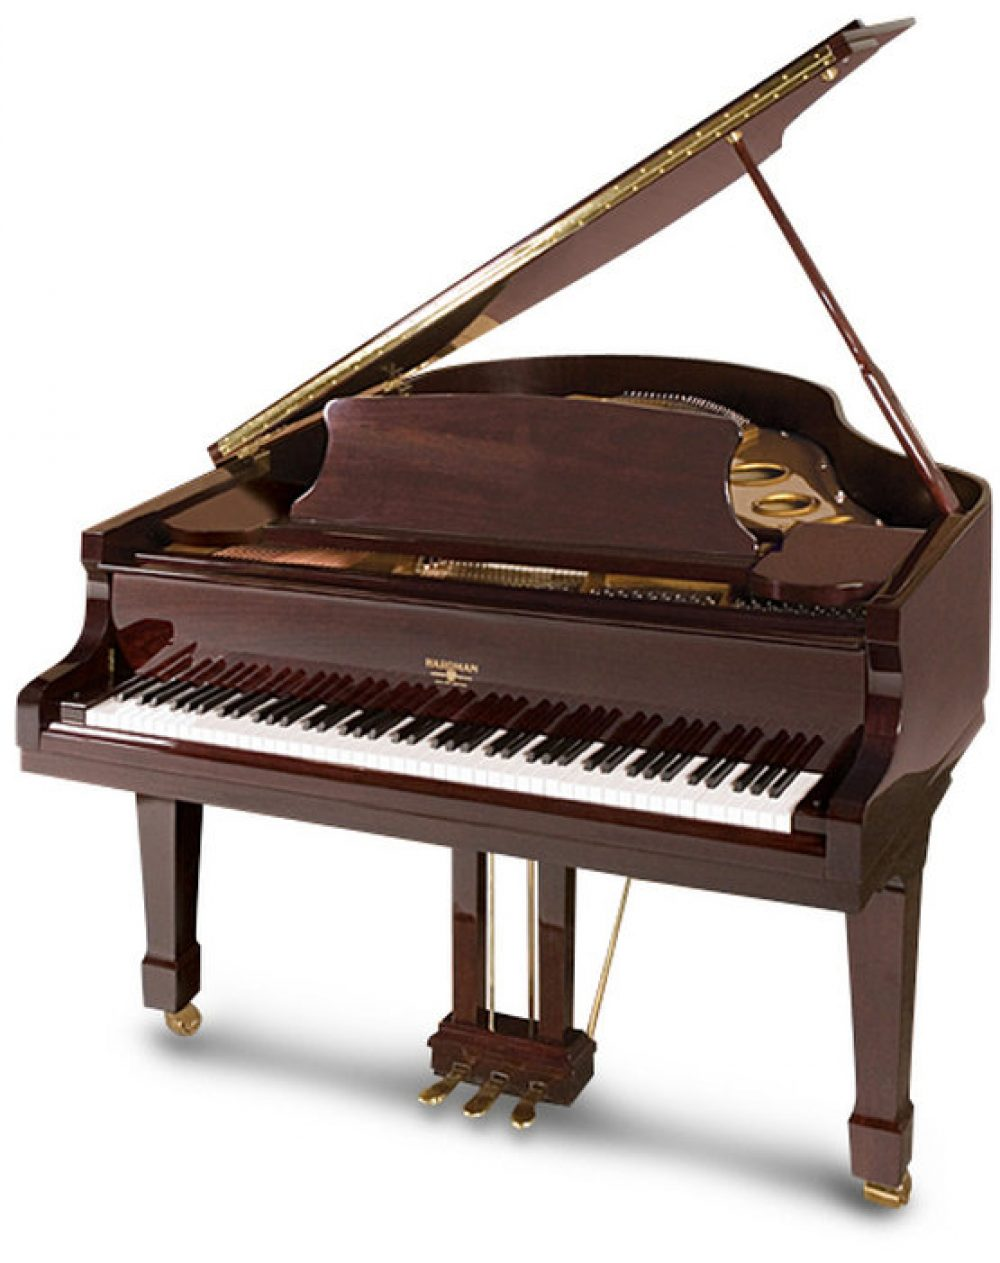GrandPiano: (21, 177, 996, 1017)
